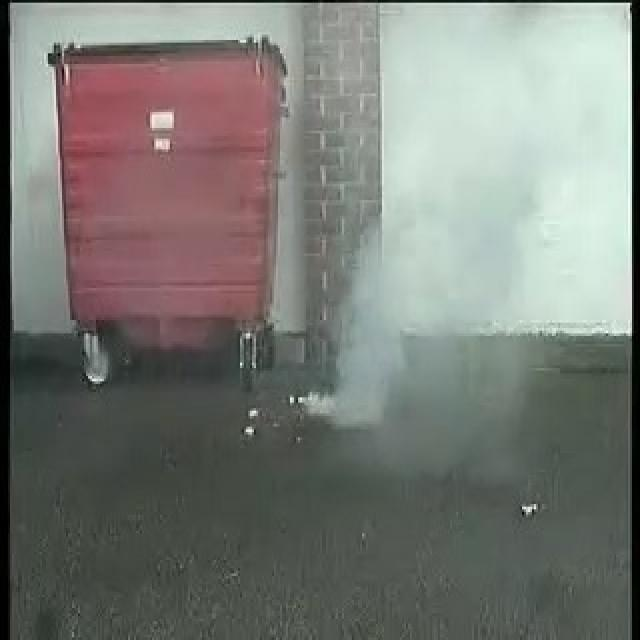smoke: (297, 226, 441, 431)
